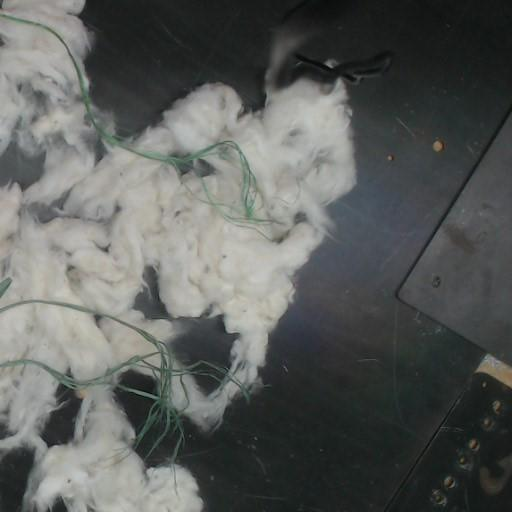conveyor belt: (179, 0, 511, 511), (82, 0, 299, 135), (172, 319, 231, 366), (0, 450, 32, 511), (45, 389, 78, 444), (0, 145, 42, 186), (136, 272, 166, 318), (117, 391, 152, 430), (121, 372, 154, 391)
thread: (0, 12, 271, 238), (0, 299, 249, 465)
